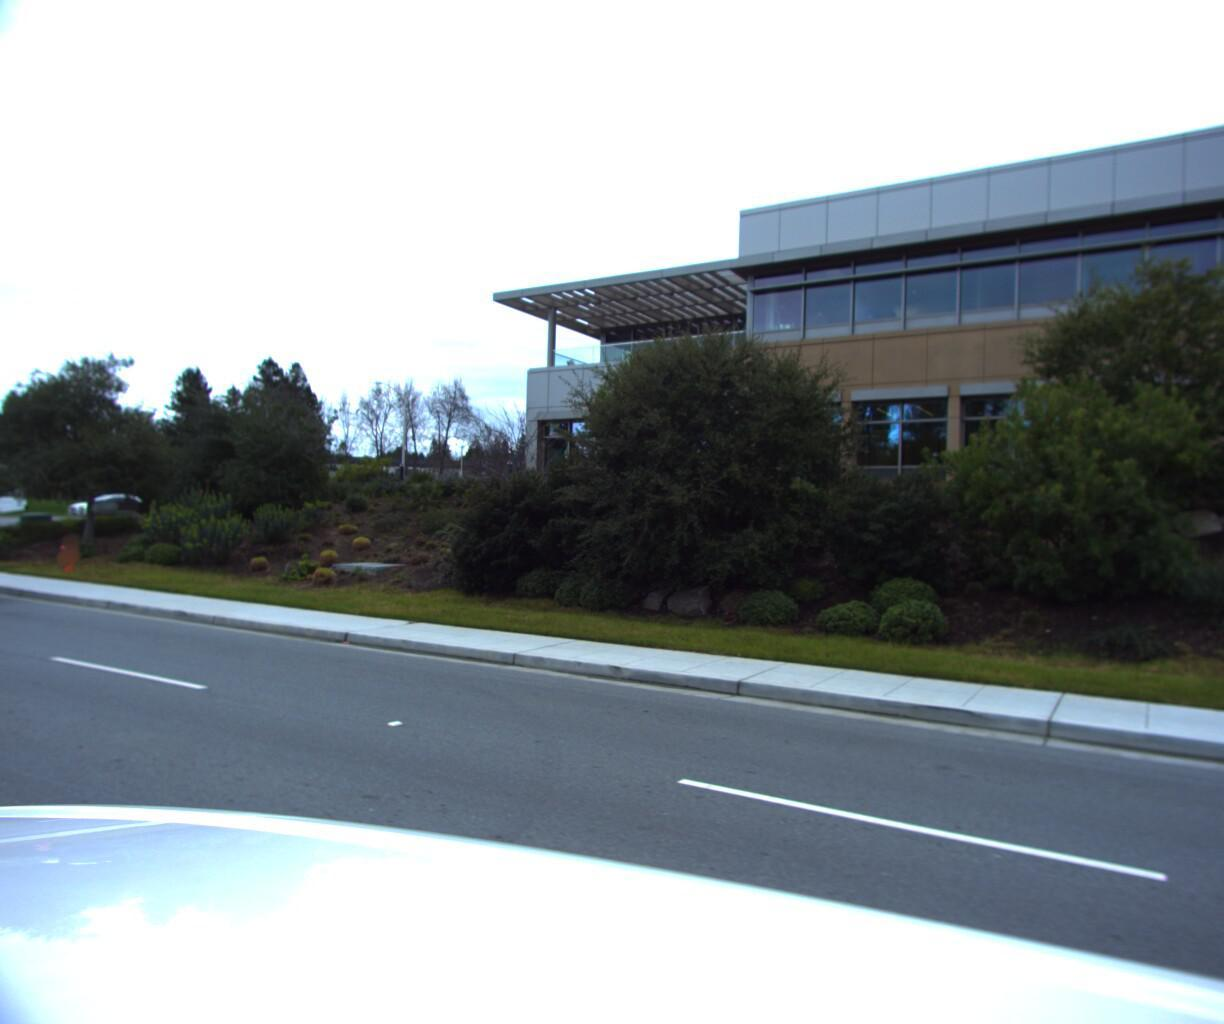bus: (0, 451, 30, 522)
car: (66, 496, 154, 524), (0, 516, 13, 612), (0, 483, 3, 520)
